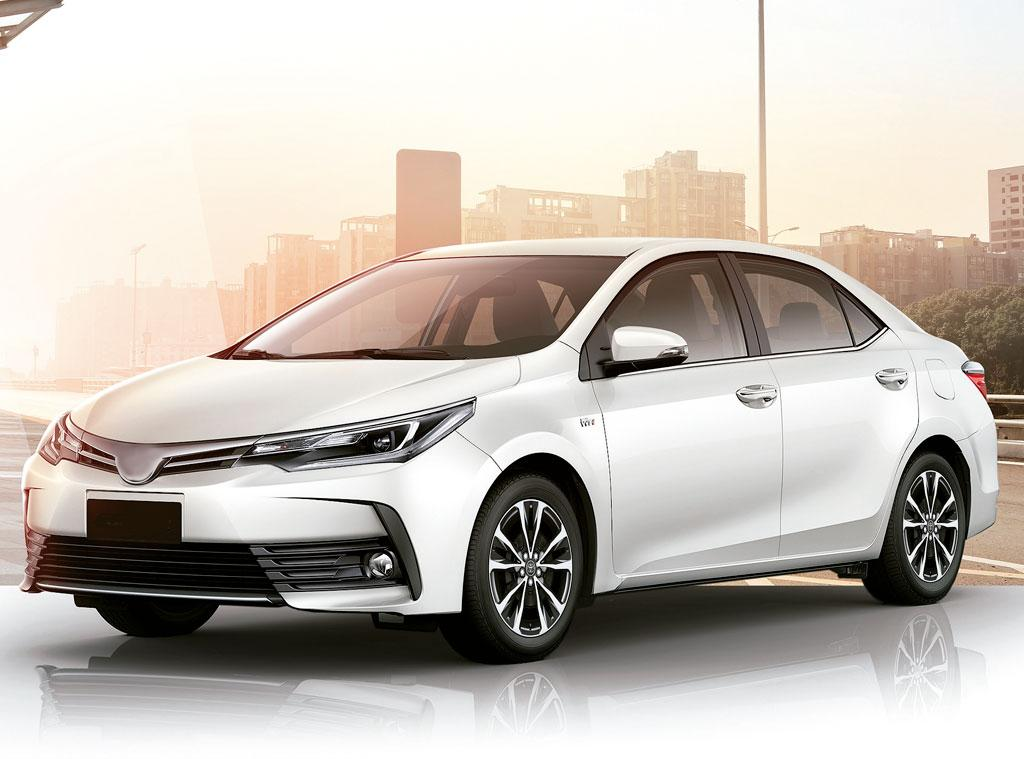windshield: (204, 246, 636, 366)
